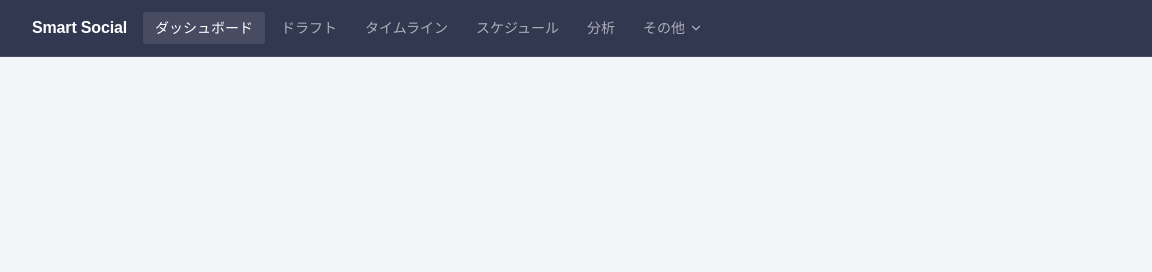
Test: NavBar › その他のナビゲーションをクリックすると副次ナビリンクが表示される
Click the button with aria-label "その他のナビゲーション" at (673, 28), box [631,12,715,44]
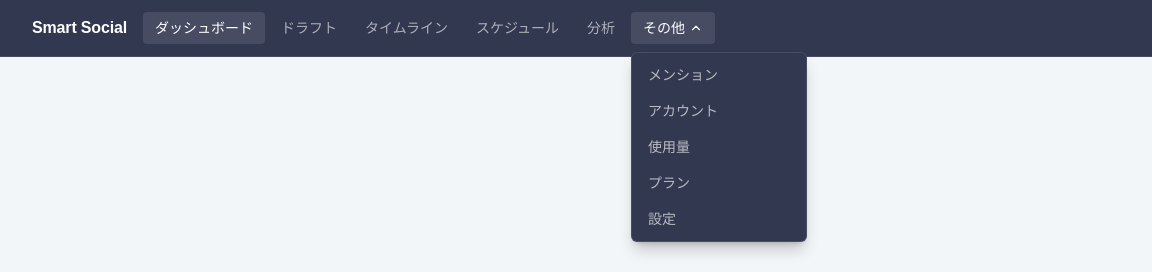
Expected: the button with aria-label "その他のナビゲーション" is expanded, [631,12,715,44]
Expected: the link "メンション" is shown, [648,67,718,83]
Expected: the link "アカウント" is shown, [648,103,718,119]
